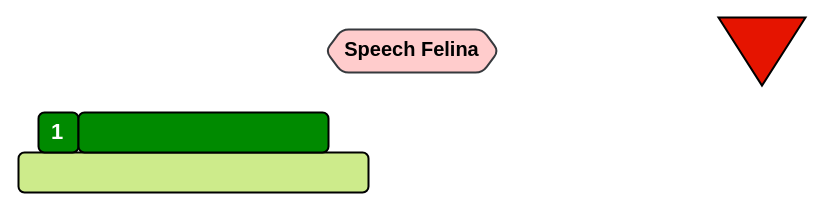
The diagram is 823 pixels wide and 211 high, and some of its shapes have lost their labels. The centre of each missing label's shape, as x and y in pixels:
"asdfasdfas fas" belongs at point (193, 172).
"dfgsdfg" belongs at point (203, 132).
